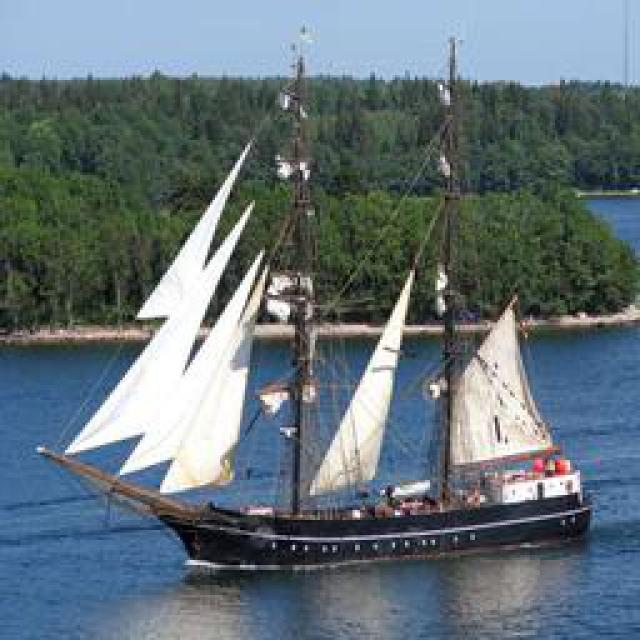Ship: (27, 78, 610, 563)
